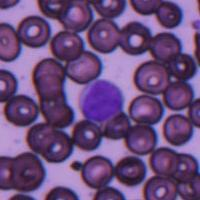L: (79, 78, 124, 123)
